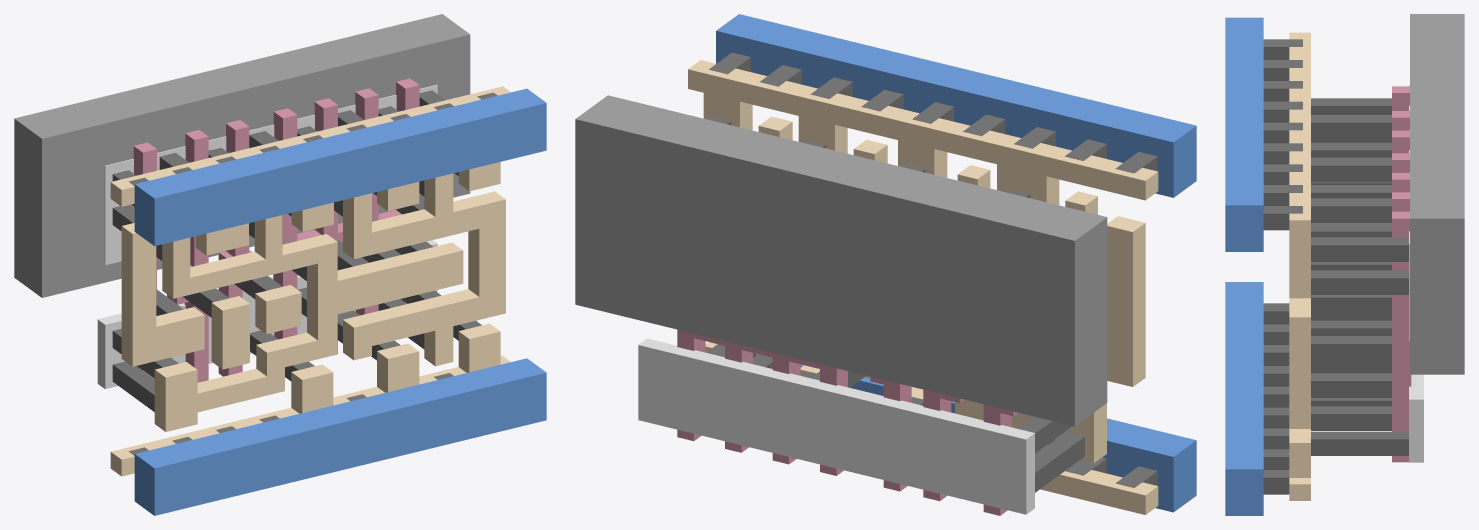
Rendered from sky130_fd_sc_hd__and3_4.gds.gltf.
3 renders of one model, left to right at view 1: azimuth 30°, elevation 25°; view 2: azimuth 150°, elevation 25°; view 3: azimuth 270°, elevation 25°, orthographic. The views are drawn at different scales.
Parts seen in each view (by area): view 1: sky130_fd_sc_hd__and3_4_li1, sky130_fd_sc_hd__and3_4_met1, sky130_fd_sc_hd__and3_4_nwell, sky130_fd_sc_hd__and3_4_licon, sky130_fd_sc_hd__and3_4_poly, sky130_fd_sc_hd__and3_4_diff, sky130_fd_sc_hd__and3_4_mcon; view 2: sky130_fd_sc_hd__and3_4_nwell, sky130_fd_sc_hd__and3_4_diff, sky130_fd_sc_hd__and3_4_li1, sky130_fd_sc_hd__and3_4_met1, sky130_fd_sc_hd__and3_4_mcon, sky130_fd_sc_hd__and3_4_poly, sky130_fd_sc_hd__and3_4_licon; view 3: sky130_fd_sc_hd__and3_4_licon, sky130_fd_sc_hd__and3_4_nwell, sky130_fd_sc_hd__and3_4_met1, sky130_fd_sc_hd__and3_4_mcon, sky130_fd_sc_hd__and3_4_li1, sky130_fd_sc_hd__and3_4_poly, sky130_fd_sc_hd__and3_4_diff.
Boxes of the visible parts, x1,y1,x2,y2 form: sky130_fd_sc_hd__and3_4_li1: (110, 86, 510, 476); sky130_fd_sc_hd__and3_4_met1: (134, 88, 546, 515); sky130_fd_sc_hd__and3_4_nwell: (14, 14, 470, 297); sky130_fd_sc_hd__and3_4_licon: (112, 90, 481, 411); sky130_fd_sc_hd__and3_4_poly: (133, 78, 419, 382); sky130_fd_sc_hd__and3_4_diff: (97, 84, 437, 389); sky130_fd_sc_hd__and3_4_mcon: (129, 92, 497, 455); sky130_fd_sc_hd__and3_4_nwell: (575, 95, 1107, 426); sky130_fd_sc_hd__and3_4_diff: (638, 338, 1034, 514); sky130_fd_sc_hd__and3_4_li1: (688, 60, 1158, 514); sky130_fd_sc_hd__and3_4_met1: (716, 14, 1196, 512); sky130_fd_sc_hd__and3_4_mcon: (709, 52, 1157, 487); sky130_fd_sc_hd__and3_4_poly: (677, 329, 1017, 515); sky130_fd_sc_hd__and3_4_licon: (706, 116, 1084, 492); sky130_fd_sc_hd__and3_4_licon: (1311, 98, 1408, 455); sky130_fd_sc_hd__and3_4_nwell: (1410, 14, 1464, 374); sky130_fd_sc_hd__and3_4_met1: (1225, 17, 1263, 515); sky130_fd_sc_hd__and3_4_mcon: (1263, 39, 1302, 494); sky130_fd_sc_hd__and3_4_li1: (1289, 32, 1310, 500); sky130_fd_sc_hd__and3_4_poly: (1392, 86, 1411, 462); sky130_fd_sc_hd__and3_4_diff: (1409, 85, 1423, 462).
Size of the model in its own units: 4.52 by 3.2 by 2.24.
